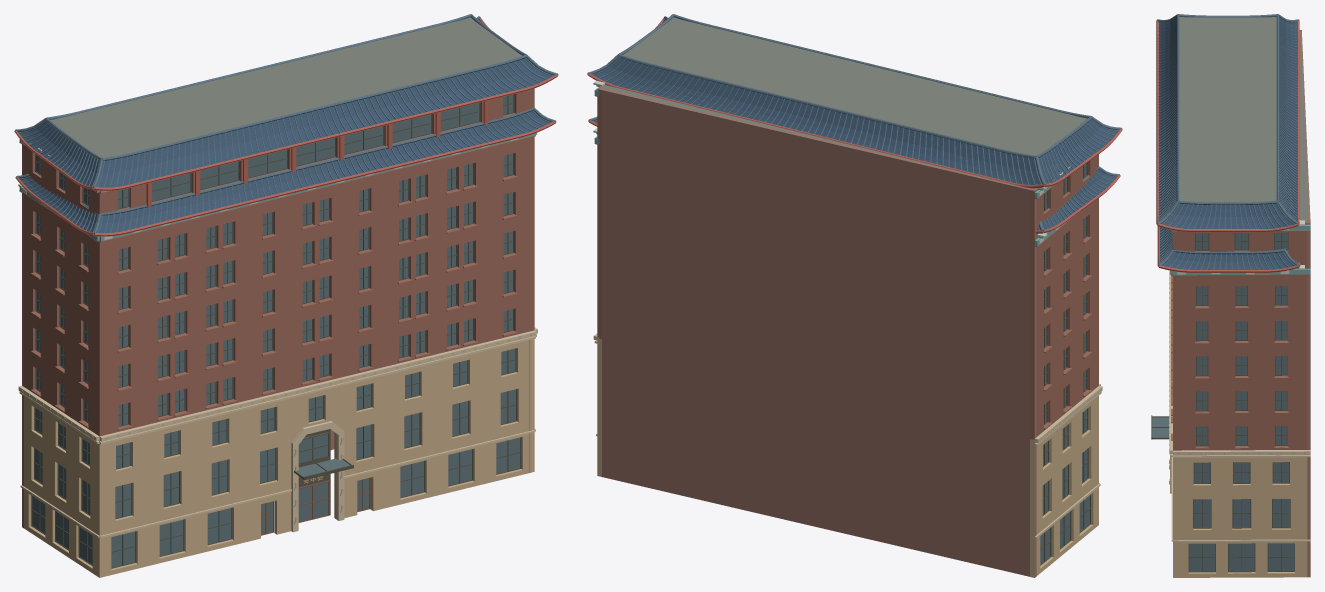
The model's file is huangpu-baxianqiao-ymca-lod.glb.
3 views of the same model, side by side, from view 1: azimuth 30°, elevation 25°; view 2: azimuth 150°, elevation 25°; view 3: azimuth 270°, elevation 25° (orthographic). The views are drawn at different scales.
Parts seen in each view (by area): view 1: 八仙桥基督教青年会大楼（西藏南路双檐临街翼）; view 2: 八仙桥基督教青年会大楼（西藏南路双檐临街翼）; view 3: 八仙桥基督教青年会大楼（西藏南路双檐临街翼）.
Boxes of the visible parts, x1=… form: 八仙桥基督教青年会大楼（西藏南路双檐临街翼）: x1=14, y1=14, x2=558, y2=577; 八仙桥基督教青年会大楼（西藏南路双檐临街翼）: x1=587, y1=14, x2=1122, y2=577; 八仙桥基督教青年会大楼（西藏南路双檐临街翼）: x1=1151, y1=14, x2=1310, y2=577.
Size of the model in its own units: 39.51 by 33.71 by 12.99.
